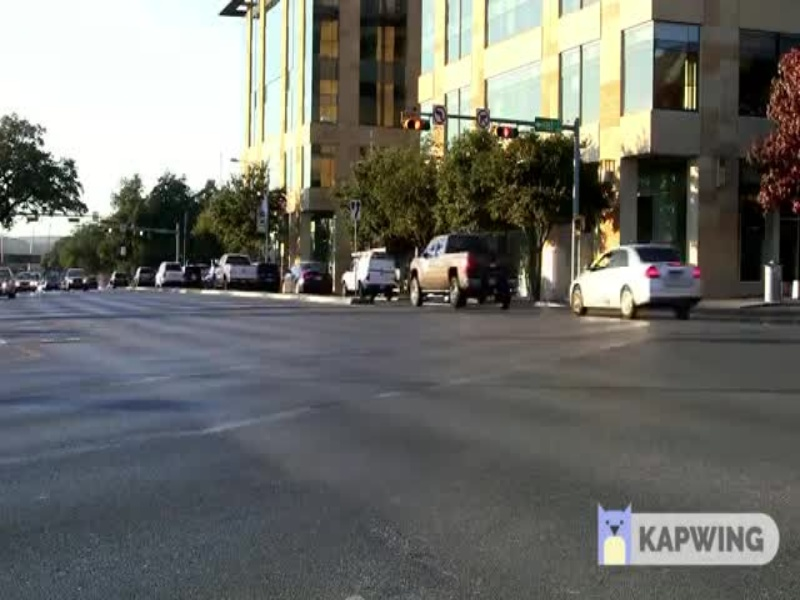car: (553, 235, 716, 329), (402, 232, 519, 307)
